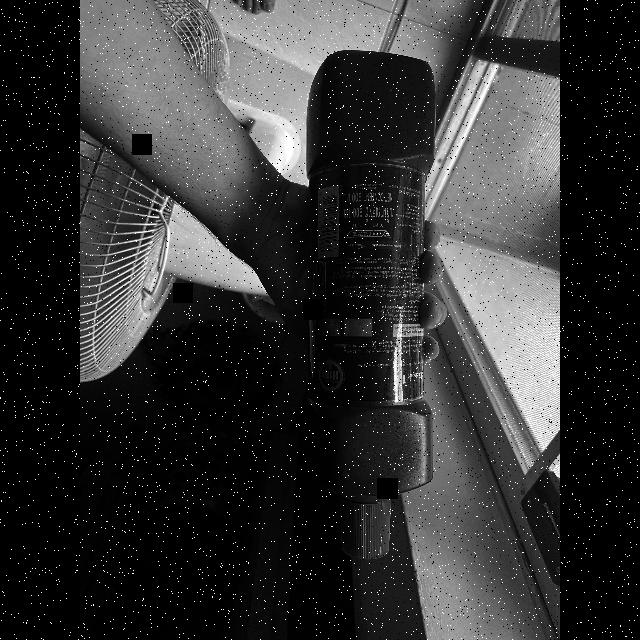toilet_cleaner: (301, 44, 439, 562)
